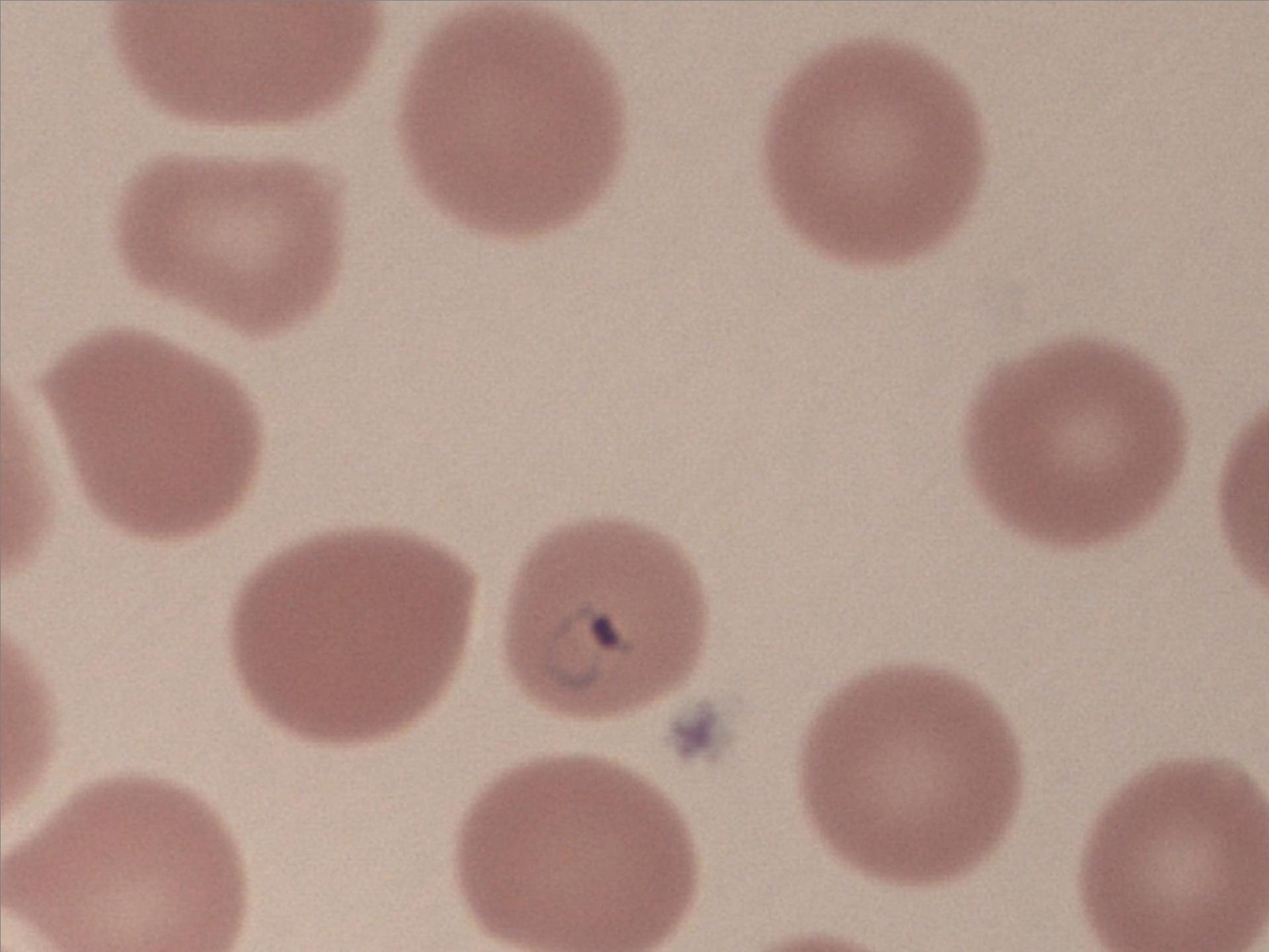Infected: (509, 518, 709, 724)
Uninfected: (227, 527, 477, 746), (405, 3, 629, 240), (35, 335, 272, 532), (802, 664, 1016, 881), (767, 47, 980, 265), (0, 771, 251, 952), (969, 333, 1185, 542), (460, 763, 692, 952), (119, 155, 350, 336), (1084, 760, 1269, 952), (110, 0, 383, 125)
